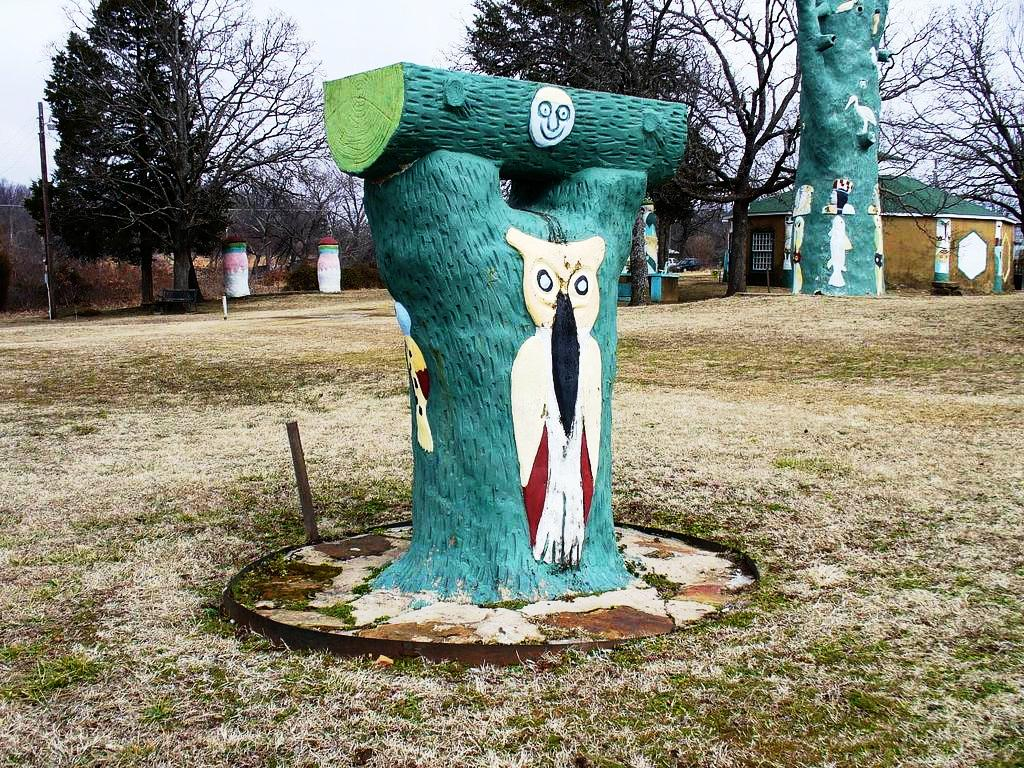Owl: (508, 223, 606, 572)
